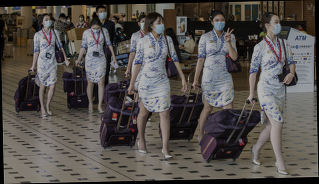with_mask: (271, 18, 283, 36), (213, 17, 227, 32), (153, 19, 166, 35), (43, 17, 53, 29), (98, 9, 107, 21), (90, 27, 102, 34), (140, 19, 146, 31), (185, 35, 191, 41), (67, 17, 72, 23), (78, 16, 84, 21), (61, 18, 65, 22)
